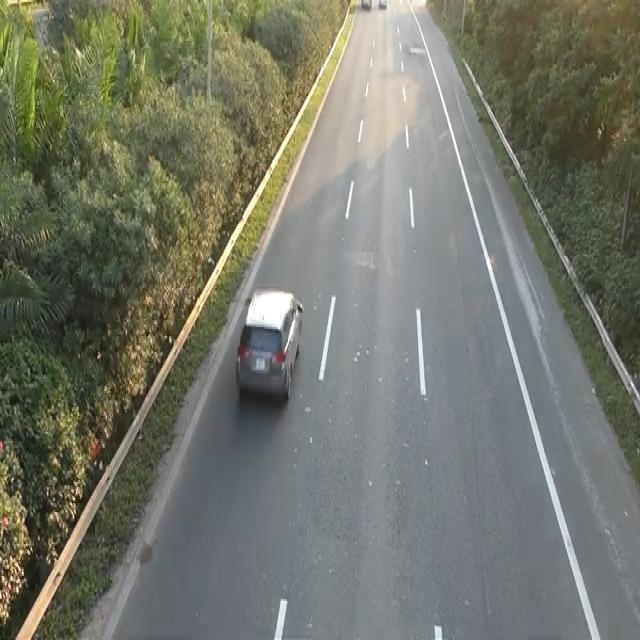car: (233, 282, 305, 403)
